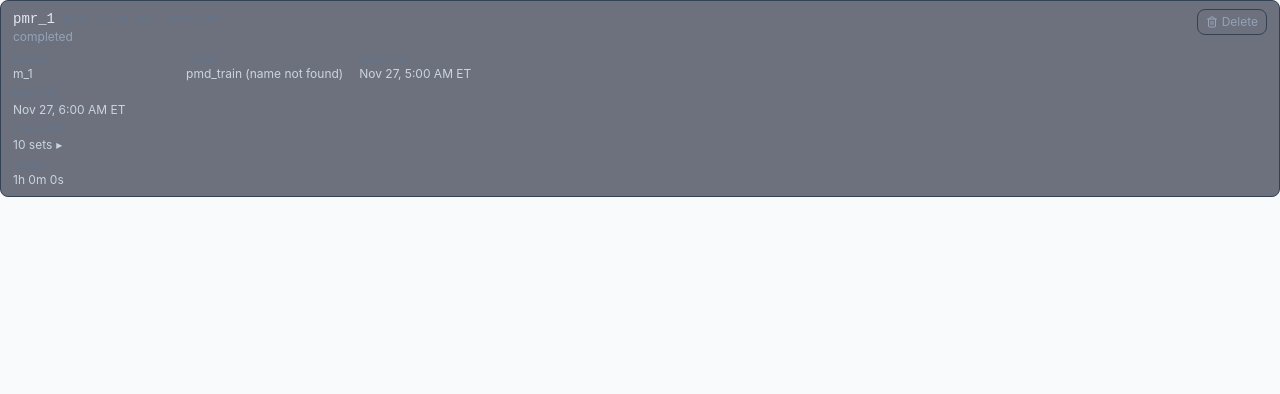
Test case: set lists on the probe page use the shared SetList › a run tile's Evaluate cell (RunTile)
The width and height of the screenshot is (1280, 394).
Click the button "10 sets ▸". click: (38, 145)
box: top-left (13, 137), bottom-right (62, 153)
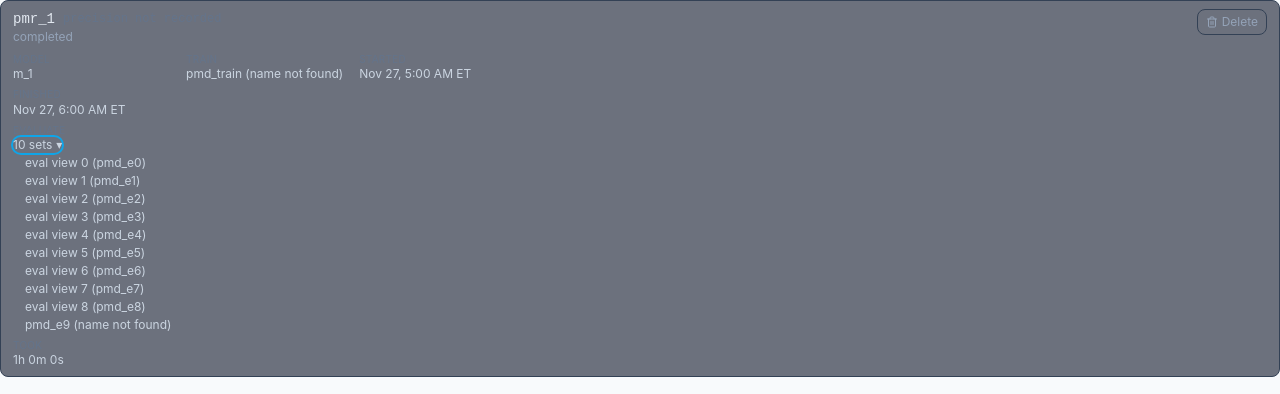
Check: the text titled "pmd_train (name not found)" is shown, box top-left (186, 66), bottom-right (343, 82)
Check: the element with test id "run-evaluate-sets" has attribute data-set-list="expanded", box top-left (13, 137), bottom-right (171, 332)
